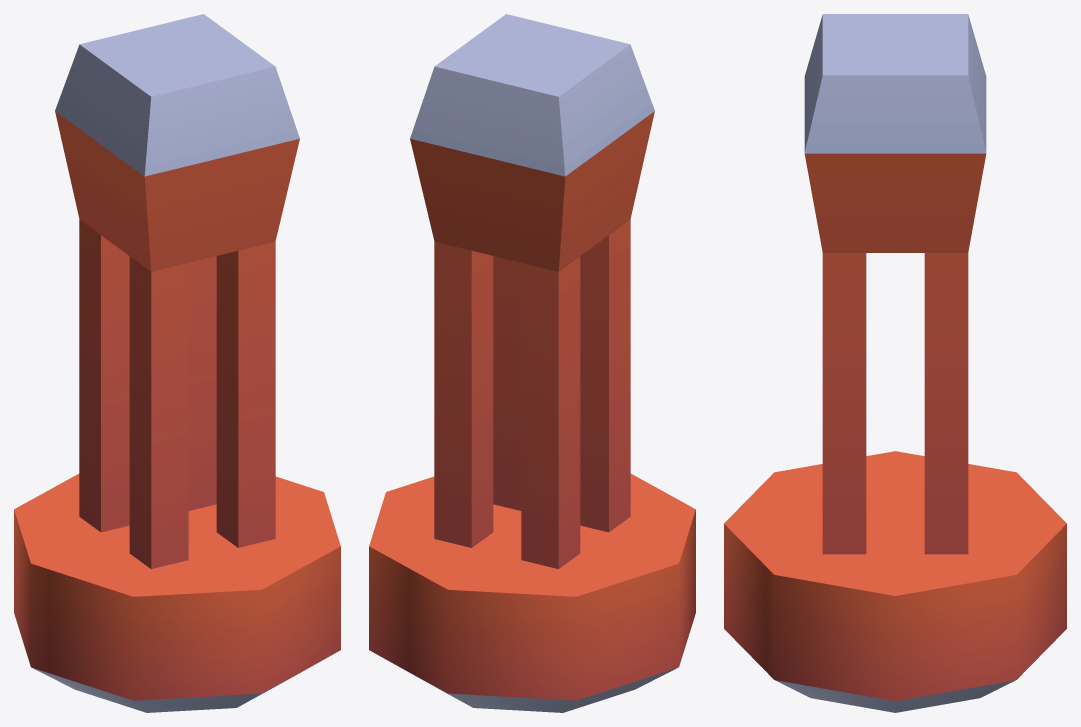
The model's file is k.buoy.glb.
3 views of the same model, side by side, from view 1: azimuth 30°, elevation 25°; view 2: azimuth 150°, elevation 25°; view 3: azimuth 270°, elevation 25° (orthographic).
Parts seen in each view (by area): view 1: buoy; view 2: buoy; view 3: buoy.
Part boxes in pixels (bbox=[...]): buoy: bbox=[14, 14, 340, 712]; buoy: bbox=[369, 14, 695, 712]; buoy: bbox=[724, 14, 1066, 712].
Size of the model in its own units: 1.18 by 2.35 by 1.18.
1 material, 1 textured.
